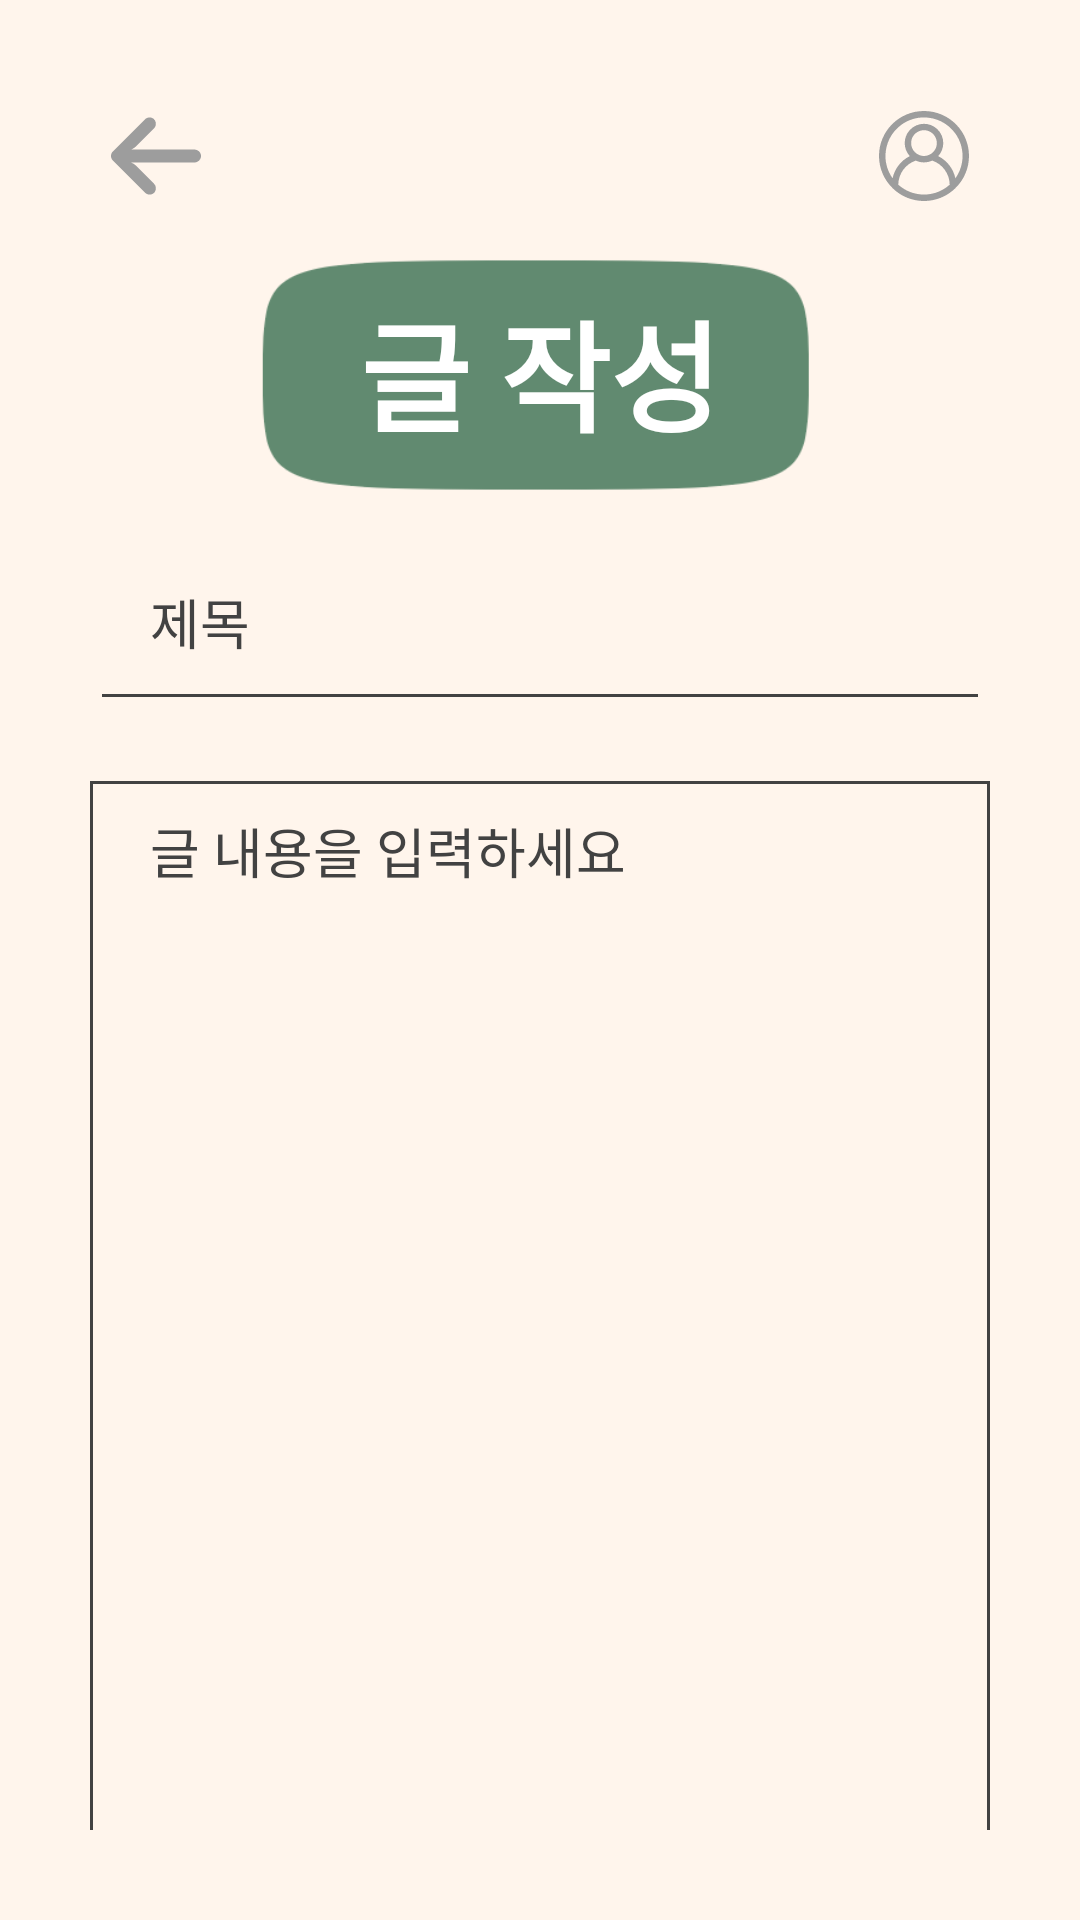

Locate icon controls on the screen. Image size 1080*1920, boxes as rect(x1, y1, x2, y2).
left arrow: rect(111, 117, 201, 195)
